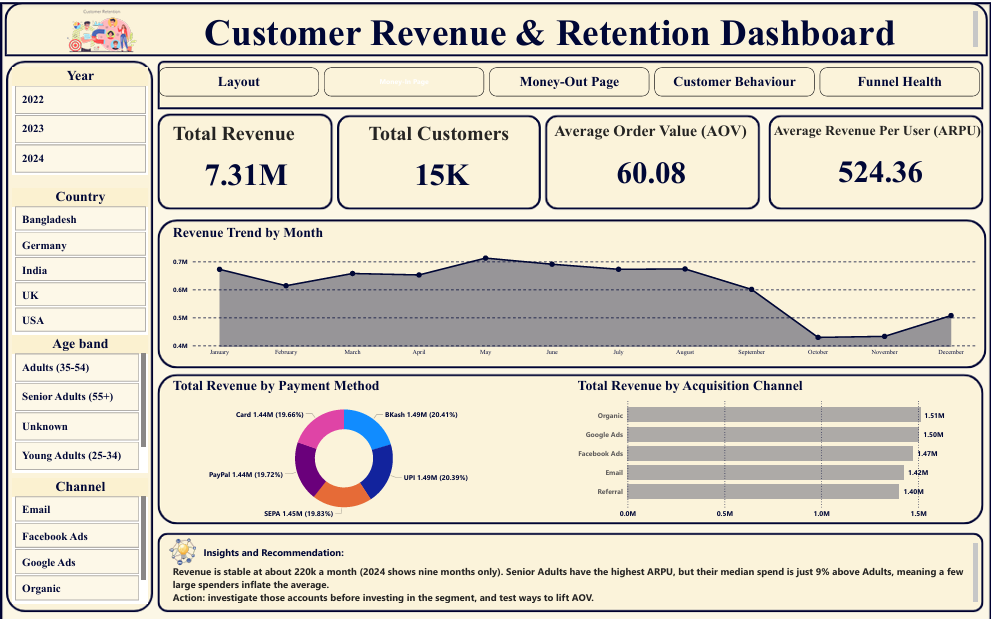

The dashboard page shown, as its layout file describes it:
{"tool":"powerbi","page":{"name":"Money-In Page","canvas":[1920,1200],"ordinal":1},"visuals":[{"type":"textbox","box":[238.6,15.9,1659.5,84.8],"z":0},{"type":"advancedSlicerVisual","title":"Year","fields":{"Values":["sales_marketing_clean.signup_month.Variation.Date Hierarchy.Year"]},"box":[24.3,130.6,261.3,209.6],"z":1000},{"type":"advancedSlicerVisual","title":"Country","fields":{"Values":["sales_marketing_clean.country"]},"box":[24.3,364.6,261.3,285.6],"z":2000},{"type":"advancedSlicerVisual","title":"Age band","fields":{"Values":["sales_marketing_clean.age_band"]},"box":[24.3,650.1,261.3,267.3],"z":3000},{"type":"advancedSlicerVisual","title":"Channel","fields":{"Values":["sales_marketing_clean.acquisition_channel"]},"box":[24.3,926.6,261.3,243],"z":4000},{"type":"card","title":"Total Revenue","fields":{"Values":["Sum(sales_marketing_clean.total_spent)"]},"box":[328.7,235.9,294.3,148.5],"z":5000},{"type":"card","title":"Total Customers","fields":{"Values":["sales_marketing_clean.Total Customers"]},"box":[707.8,235.9,294.3,148.5],"z":6000},{"type":"card","title":"Average Revenue Per User (ARPU)","fields":{"Values":["sales_marketing_clean.ARPU"]},"box":[1492.5,235.9,424.2,148.5],"z":7000},{"type":"card","title":"Average Order Value (AOV)","fields":{"Values":["sales_marketing_clean.AOV"]},"box":[1068.4,235.9,384.4,148.5],"z":8000},{"type":"areaChart","title":"Revenue Trend by Month","fields":{"Category":["sales_marketing_clean.signup_month.Variation.Date Hierarchy.Month"],"Y":["sales_marketing_clean.Total Revenue"]},"box":[328.7,434.8,1569.4,262.5],"z":9000},{"type":"donutChart","title":"Total Revenue by Payment Method","fields":{"Y":["sales_marketing_clean.Total Revenue"],"Category":["sales_marketing_clean.payment_method"]},"box":[328.7,731.7,673.4,281],"z":10000},{"type":"clusteredBarChart","title":"Total Revenue by Acquisition Channel","fields":{"Category":["sales_marketing_clean.acquisition_channel"],"Y":["sales_marketing_clean.Total Revenue"]},"box":[1113.4,731.7,737,281],"z":11000},{"type":"textbox","box":[328.7,1047.2,1569.4,124.6],"z":12000},{"type":"pageNavigator","box":[307,129.9,1590.6,56],"z":13000},{"type":"image","box":[315.5,1036.5,76.9,63.6],"z":14000},{"type":"image","box":[0,0,392.4,114],"z":15000}]}

Visuals, with their boxes in screenshot pixels (x1, y1, x2, y2), scaled from the page's 1920x1200 canvas onto the 991x619 screenshot:
textbox: [left=123, top=8, right=980, bottom=52]
"Year" advancedSlicerVisual: [left=13, top=67, right=147, bottom=175]
"Country" advancedSlicerVisual: [left=13, top=188, right=147, bottom=335]
"Age band" advancedSlicerVisual: [left=13, top=335, right=147, bottom=473]
"Channel" advancedSlicerVisual: [left=13, top=478, right=147, bottom=603]
"Total Revenue" card: [left=170, top=122, right=322, bottom=198]
"Total Customers" card: [left=365, top=122, right=517, bottom=198]
"Average Revenue Per User (ARPU)" card: [left=770, top=122, right=989, bottom=198]
"Average Order Value (AOV)" card: [left=551, top=122, right=750, bottom=198]
"Revenue Trend by Month" areaChart: [left=170, top=224, right=980, bottom=360]
"Total Revenue by Payment Method" donutChart: [left=170, top=377, right=517, bottom=522]
"Total Revenue by Acquisition Channel" clusteredBarChart: [left=575, top=377, right=955, bottom=522]
textbox: [left=170, top=540, right=980, bottom=604]
pageNavigator: [left=158, top=67, right=979, bottom=96]
image: [left=163, top=535, right=203, bottom=567]
image: [left=0, top=0, right=203, bottom=59]
